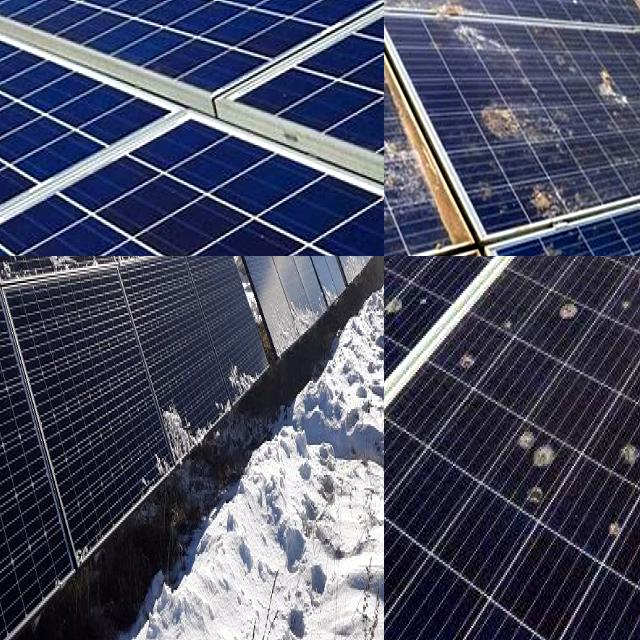bird: (472, 86, 558, 157), (522, 150, 582, 232), (513, 423, 558, 518), (384, 130, 422, 219), (590, 70, 640, 119), (384, 289, 436, 325), (420, 0, 471, 27), (554, 294, 596, 325), (401, 256, 447, 284), (454, 342, 491, 374), (603, 508, 632, 544), (501, 306, 522, 349), (618, 442, 640, 473), (426, 256, 452, 274), (384, 256, 399, 275)
crack: (0, 99, 384, 256), (0, 0, 384, 153), (0, 0, 185, 118), (18, 0, 384, 58)
panel: (156, 362, 244, 456), (274, 276, 343, 348), (0, 256, 103, 304), (0, 256, 95, 306), (110, 256, 235, 283), (0, 596, 46, 640), (229, 256, 289, 286), (310, 256, 365, 280), (195, 256, 236, 288), (335, 256, 384, 275)
